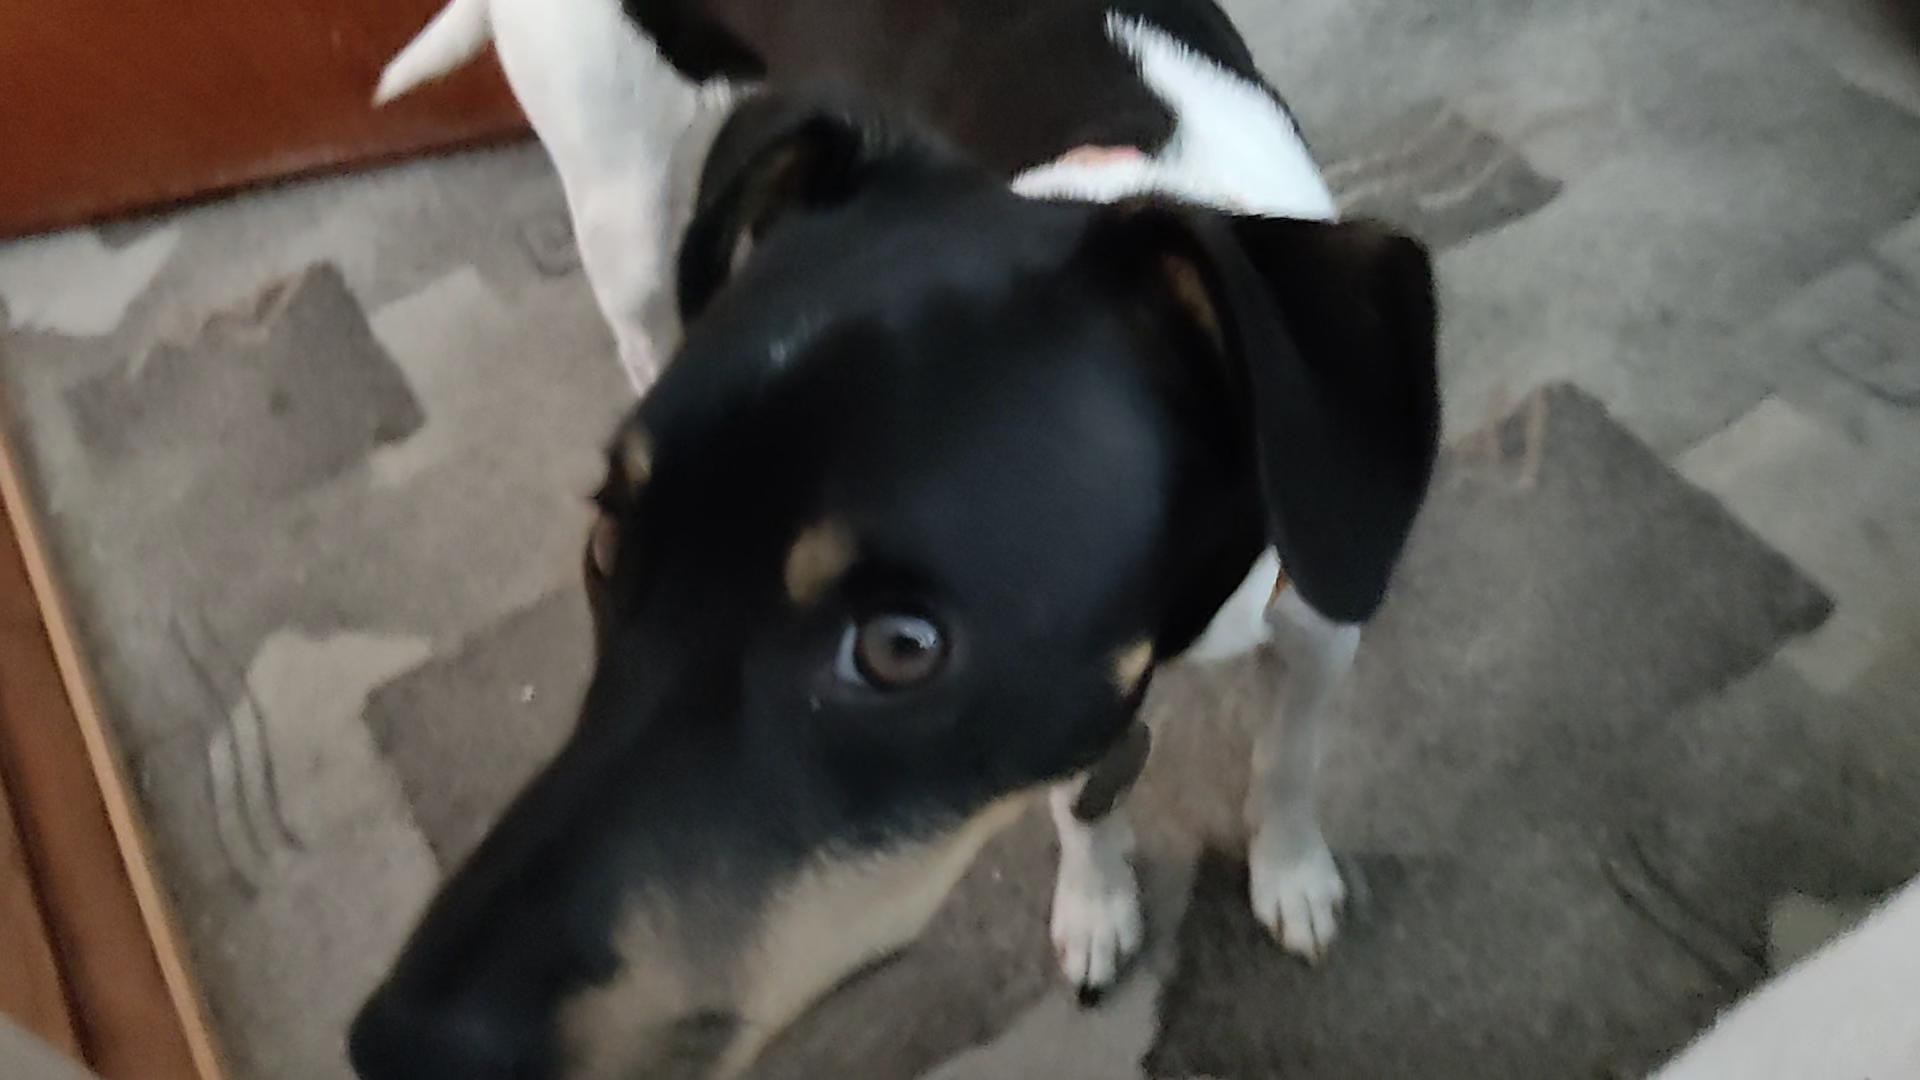Dog: (338, 0, 1439, 1079)
